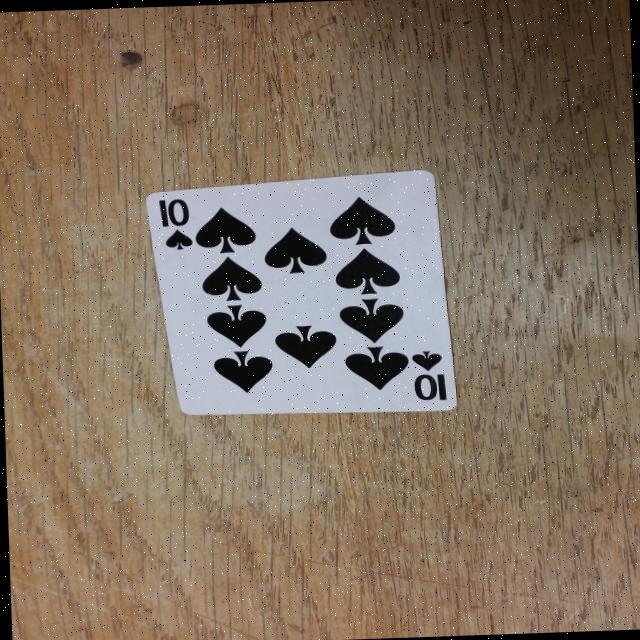10s: (144, 190, 198, 258), (396, 344, 456, 405)
